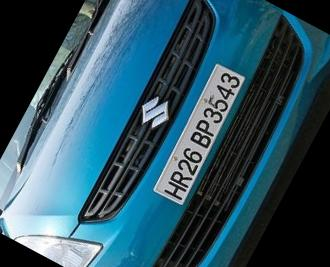plate: (136, 47, 269, 220)
